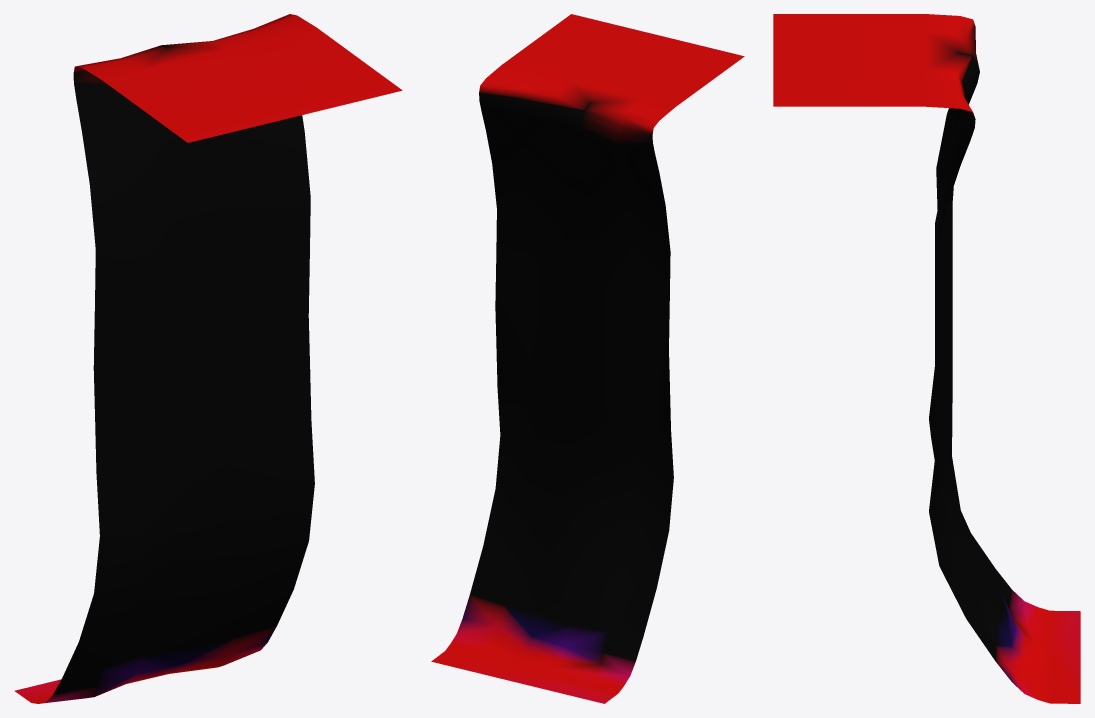
File: GroundCliff00A 3M Background.fbx
3 renders of one model, left to right at view 1: azimuth 30°, elevation 25°; view 2: azimuth 150°, elevation 25°; view 3: azimuth 270°, elevation 25°, orthographic. The views are drawn at different scales.
Visible parts, largest first — view 1: GroundCliff00A 3M Background; view 2: GroundCliff00A 3M Background; view 3: GroundCliff00A 3M Background.
Part boxes in pixels (x1,y1,x2,y2): GroundCliff00A 3M Background: (14, 14, 402, 703); GroundCliff00A 3M Background: (431, 14, 744, 703); GroundCliff00A 3M Background: (773, 14, 1080, 703).
Bounding box in the file's own units: 1 × 3 × 1.4.
